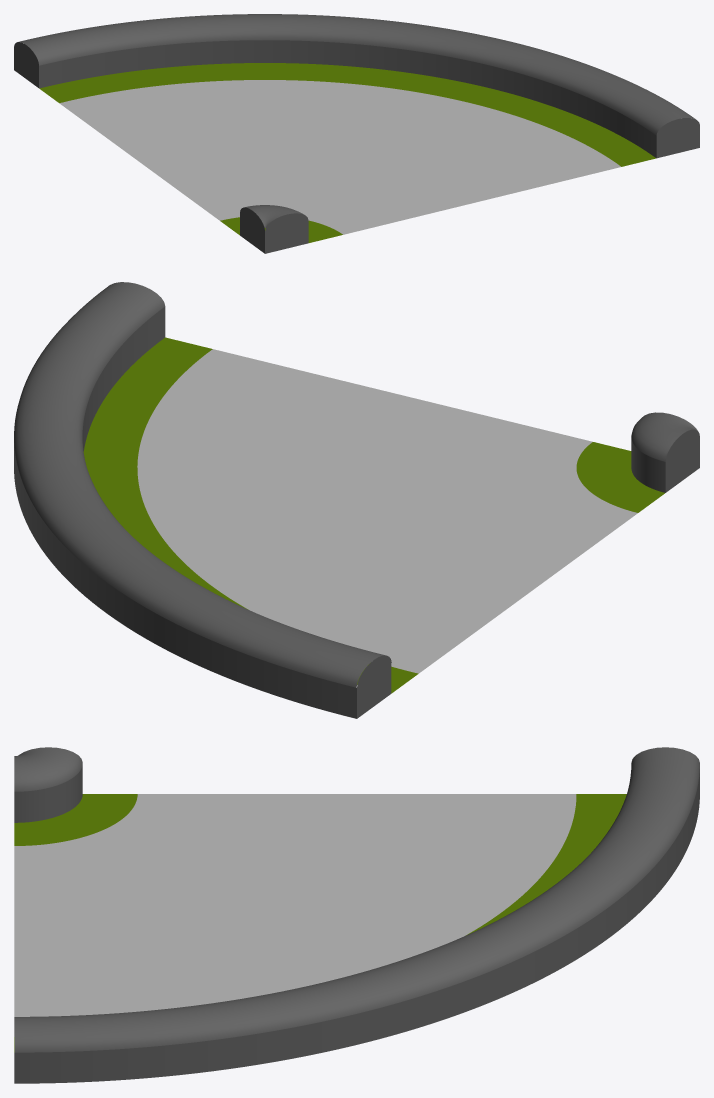
File: corner1x.gltf
3 views of the same model, one above another, from view 1: azimuth 30°, elevation 25°; view 2: azimuth 150°, elevation 25°; view 3: azimuth 270°, elevation 25° (orthographic). The views are drawn at different scales.
Parts seen in each view (by area): view 1: $ColladaAutoName$_0; view 2: $ColladaAutoName$_0; view 3: $ColladaAutoName$_0.
Part boxes in pixels (x1,y1,x2,y2): $ColladaAutoName$_0: (14, 14, 699, 253); $ColladaAutoName$_0: (14, 282, 699, 718); $ColladaAutoName$_0: (14, 747, 699, 1083).
Bounding box in the file's own units: 24.01 × 1.8 × 24.01.
